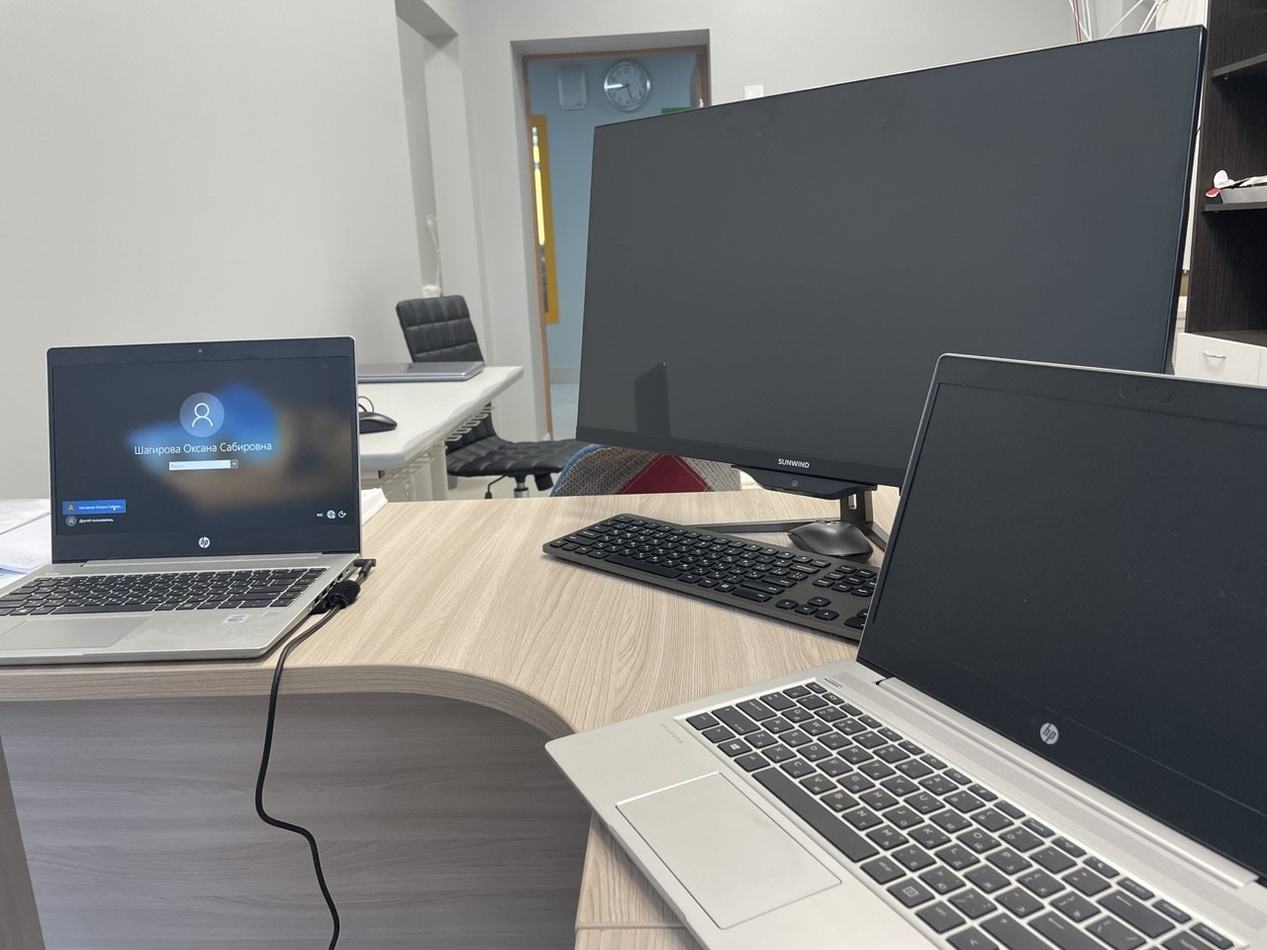laptop: (543, 352, 1266, 948), (1, 336, 362, 664), (357, 361, 486, 382)
